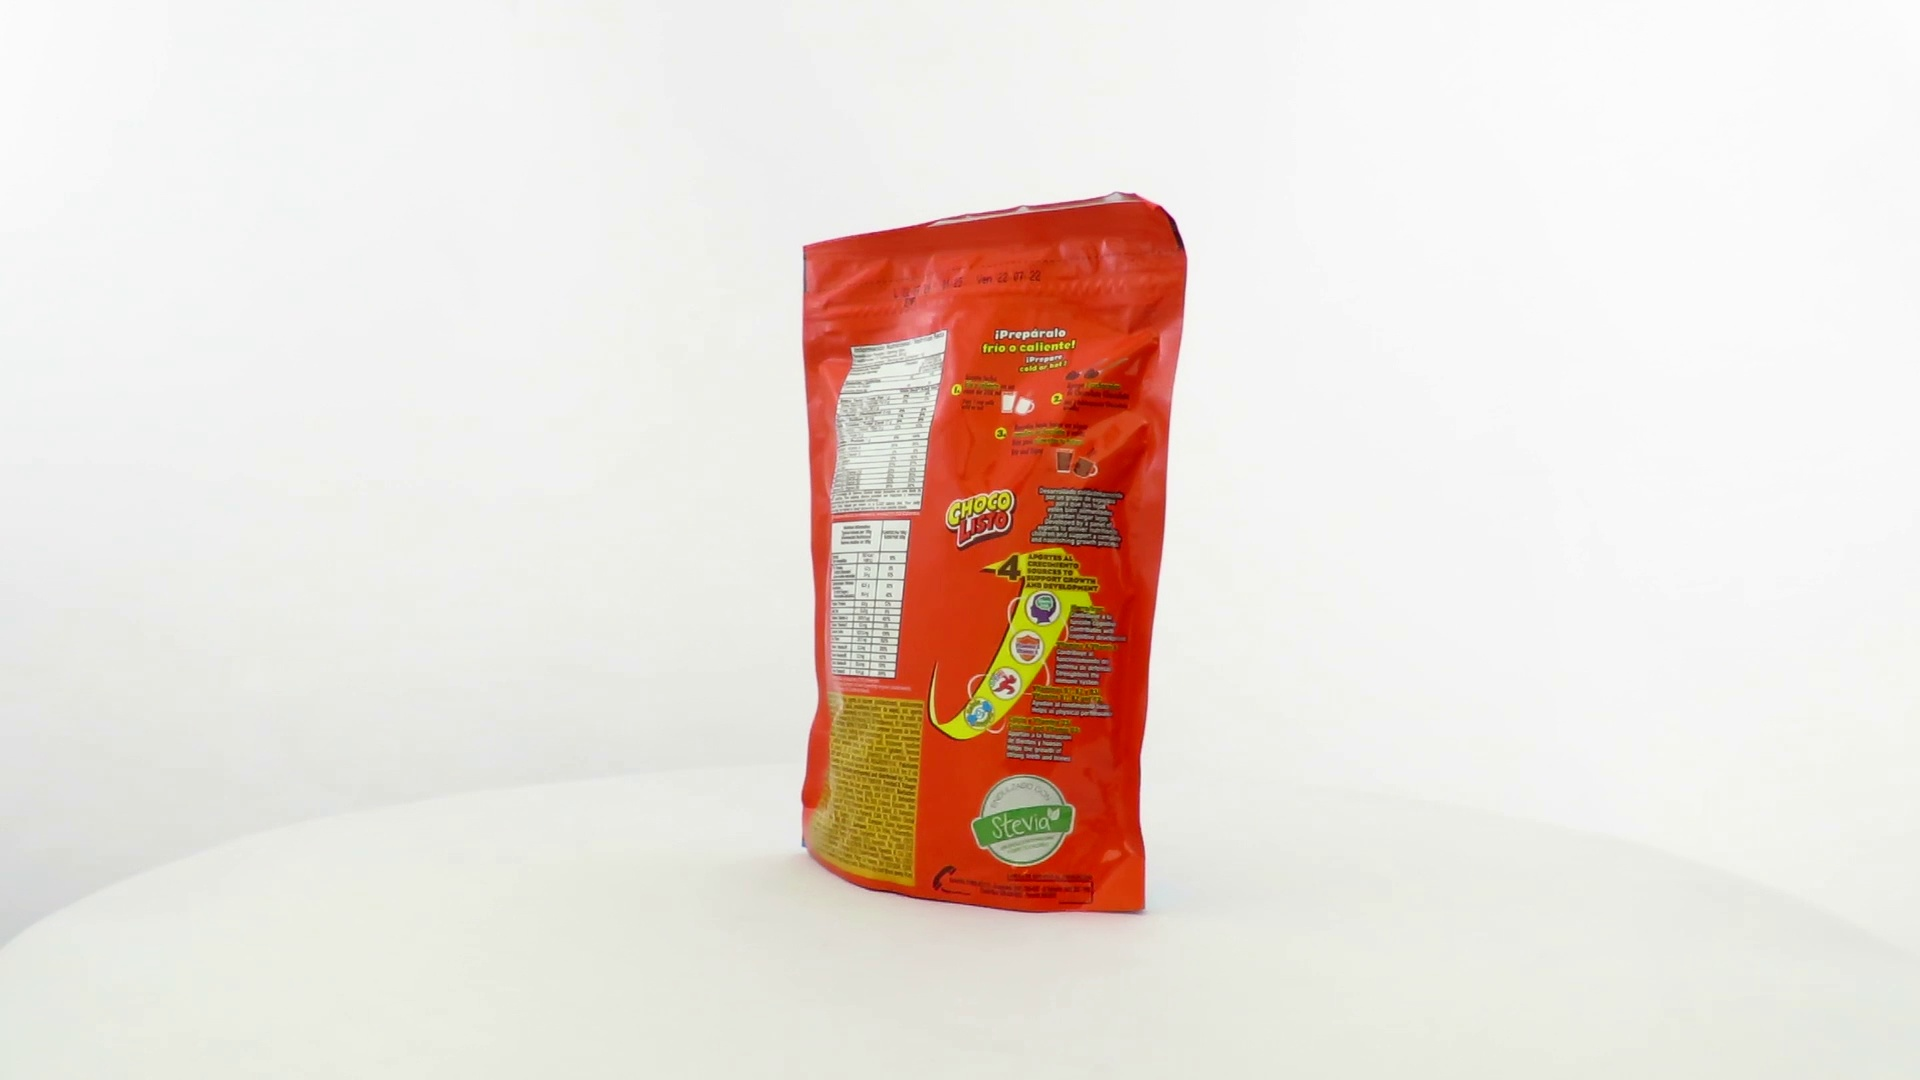COL0170104DYP20000: (796, 186, 1193, 922)
